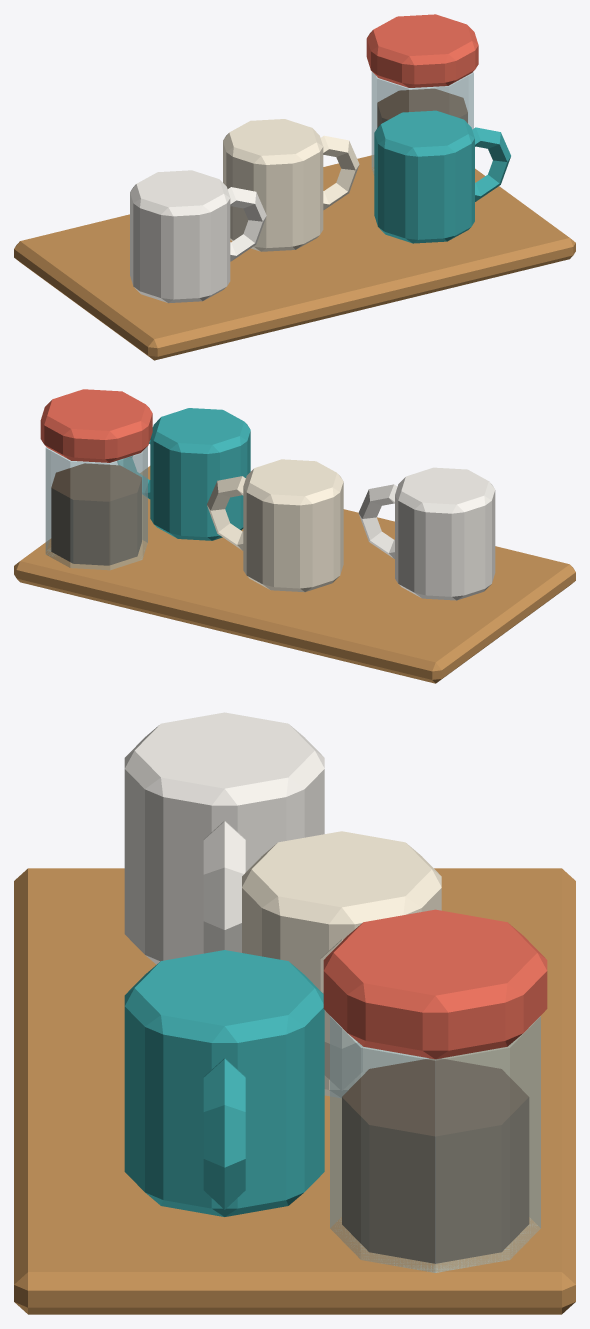
The model's file is mug_set.glb.
3 views of the same model, one above another, from view 1: azimuth 30°, elevation 25°; view 2: azimuth 150°, elevation 25°; view 3: azimuth 270°, elevation 25° (orthographic). The views are drawn at different scales.
Parts seen in each view (by area): view 1: mug_set; view 2: mug_set; view 3: mug_set.
Boxes of the visible parts, <box> form: mug_set: <box>14,14,575,360</box>; mug_set: <box>14,389,575,683</box>; mug_set: <box>14,712,575,1314</box>.
Size of the model in its own units: 0.42 by 0.15 by 0.24.
